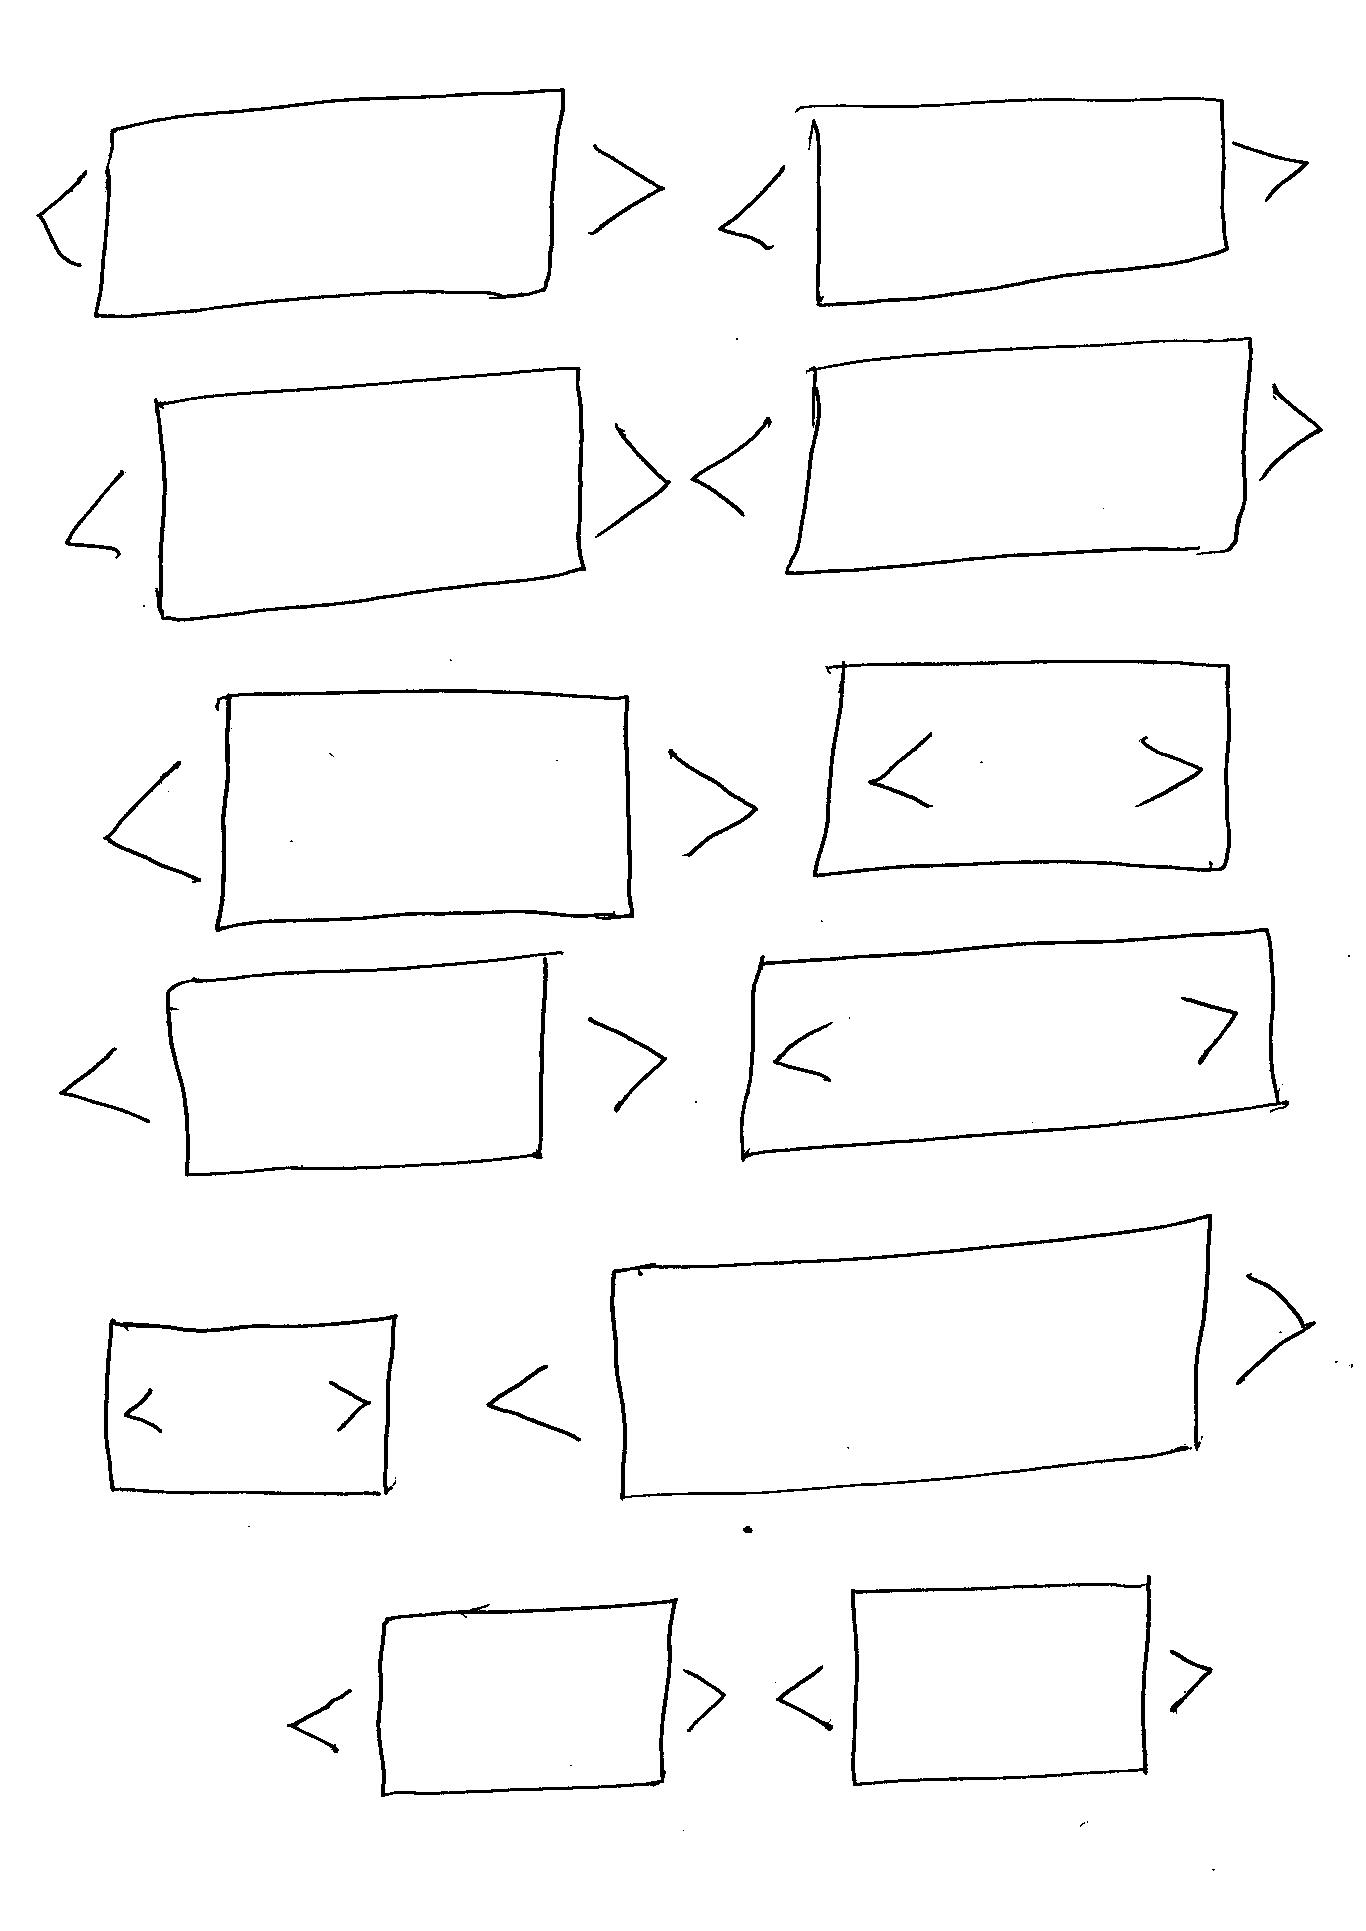Carousel: (483, 1207, 1319, 1501), (101, 686, 761, 933), (64, 364, 670, 622), (687, 337, 1325, 580), (33, 84, 668, 319), (56, 949, 670, 1180), (738, 929, 1285, 1162), (716, 96, 1308, 308), (812, 656, 1231, 880), (776, 1579, 1214, 1788), (285, 1595, 727, 1799), (101, 1311, 401, 1498)
